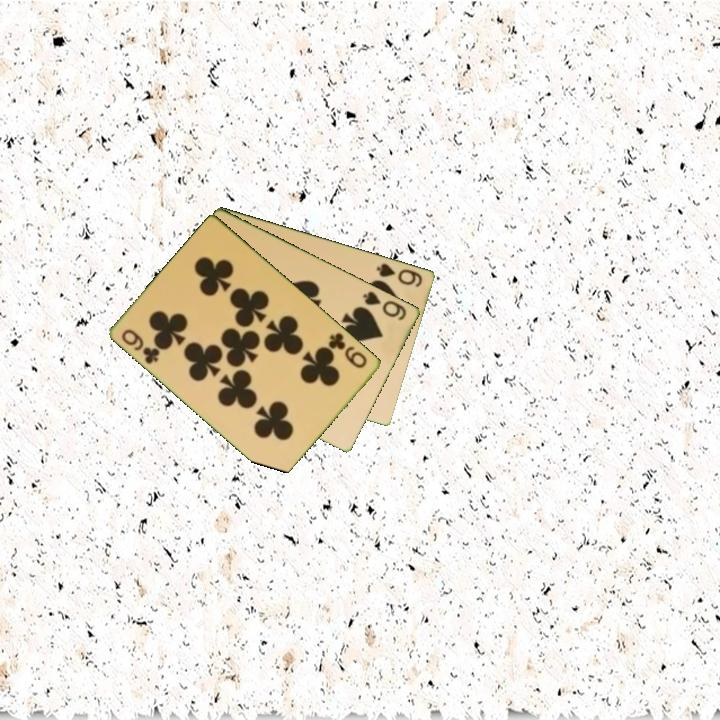6s: (360, 287, 410, 323), (373, 259, 426, 290)
9c: (325, 329, 370, 371), (118, 325, 163, 367)
